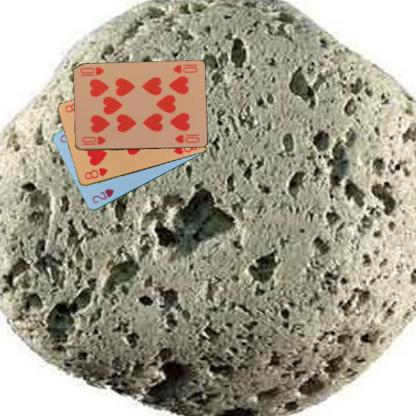10h: (79, 134, 107, 146), (170, 62, 198, 74)
2h: (90, 187, 116, 205)
8h: (82, 165, 109, 181)
